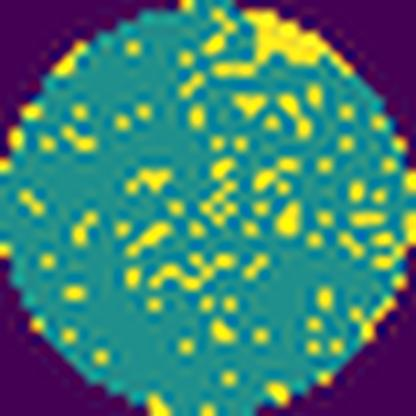Edge-Loc: (238, 0, 358, 81)
